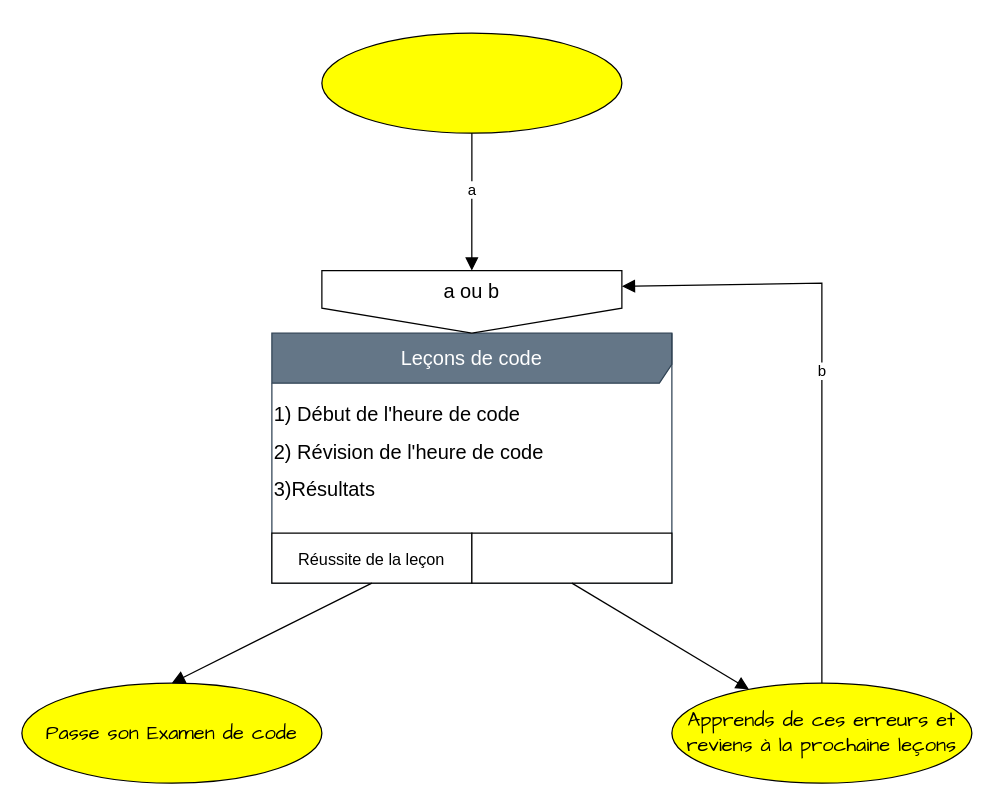
The diagram is 994 pixels wide and 805 high, and some of its shapes have lost their labels. The centre of each missing label's shape, as x and y in pixels:
"Besoin de plus de leçon" goes at pixel 571 557.
"Se présenter à l'heure de code" goes at pixel 471 82.
